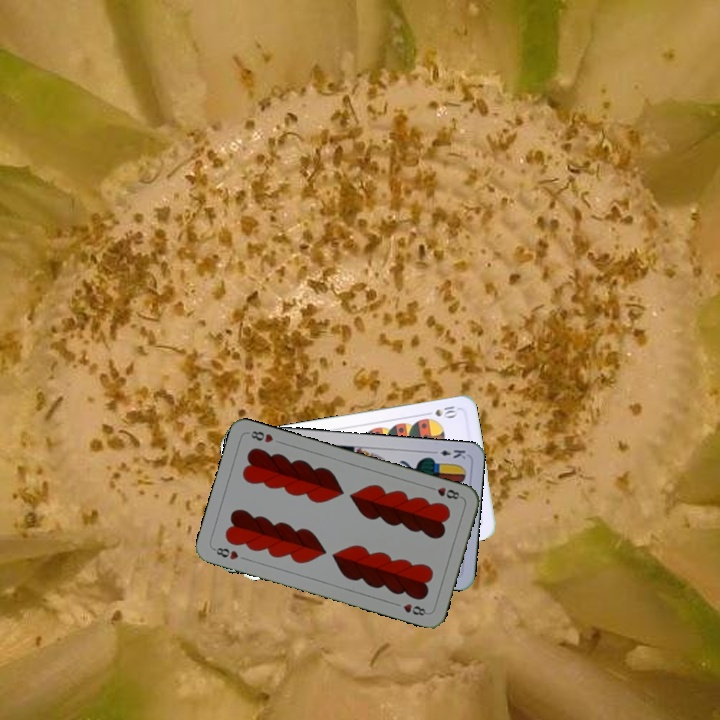EK: (428, 445, 468, 461)
H8: (425, 483, 464, 502), (209, 543, 241, 562)
S10: (420, 402, 460, 420)
